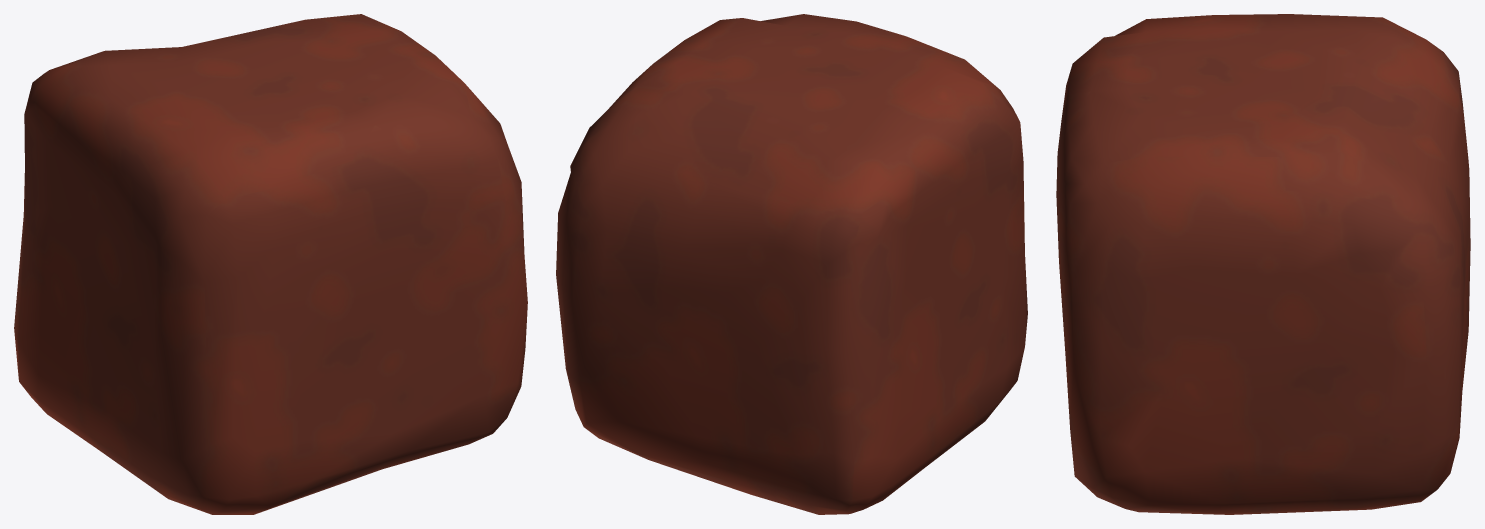
The model's file is blocks_nendo.fbx.
3 views of the same model, side by side, from view 1: azimuth 30°, elevation 25°; view 2: azimuth 150°, elevation 25°; view 3: azimuth 270°, elevation 25° (orthographic). The views are drawn at different scales.
Visible parts, largest first — view 1: nendo; view 2: nendo; view 3: nendo.
Part boxes in pixels (left/top/right/bottom): nendo: left=14, top=14, right=527, bottom=514; nendo: left=556, top=14, right=1027, bottom=514; nendo: left=1056, top=14, right=1470, bottom=514.
Bounding box in the file's own units: 83.78 × 86.04 × 84.45.
